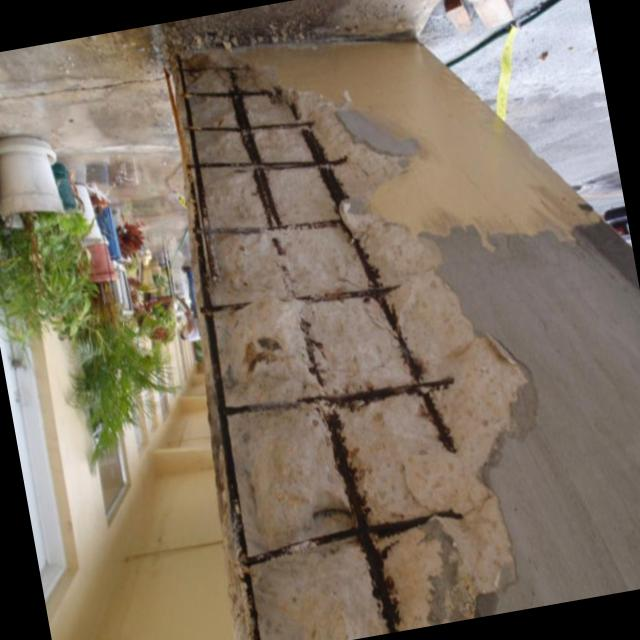spalling: (166, 52, 527, 640)
